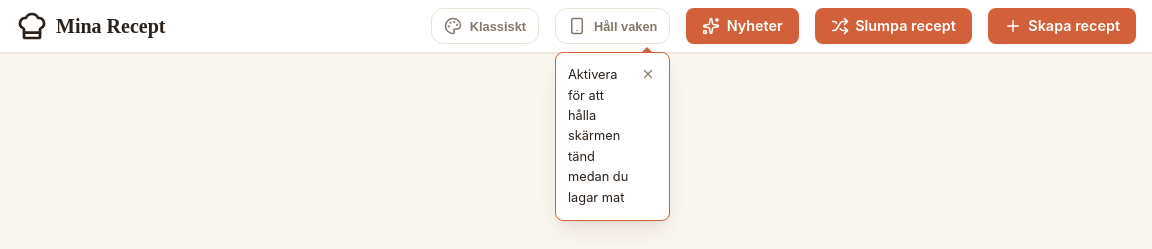
Test case: Header › wake lock button › should dismiss tooltip when close button is clicked
Expected: the text "Aktivera för att hålla skärmen tänd medan du lagar mat" is shown, [568, 65, 630, 208]
Click the button named "Stäng tips" at (648, 74), box [638, 65, 657, 84]
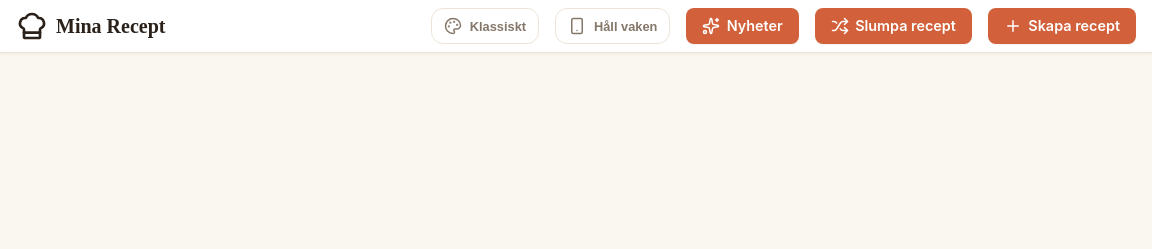
Expected: the text "Aktivera för att hålla skärmen tänd" is gone
